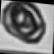correct: (0, 0, 49, 49)
